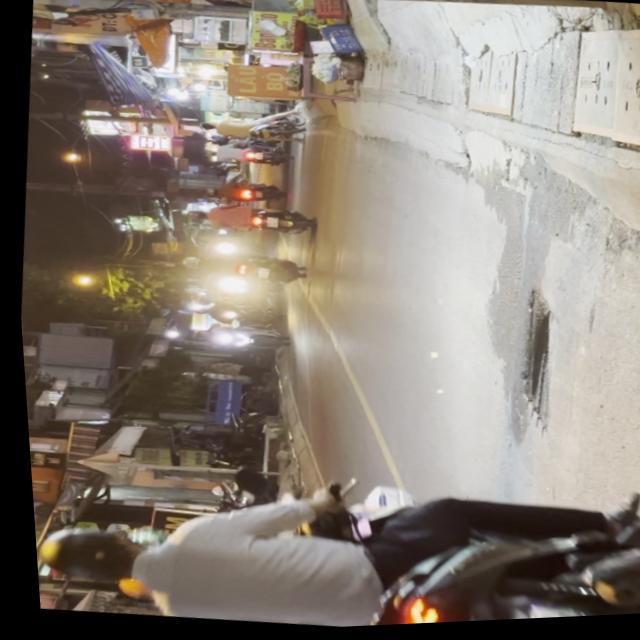helmet: (27, 519, 148, 595)
licenseplate: (24, 437, 640, 640)
nohelmet: (512, 607, 577, 623)
